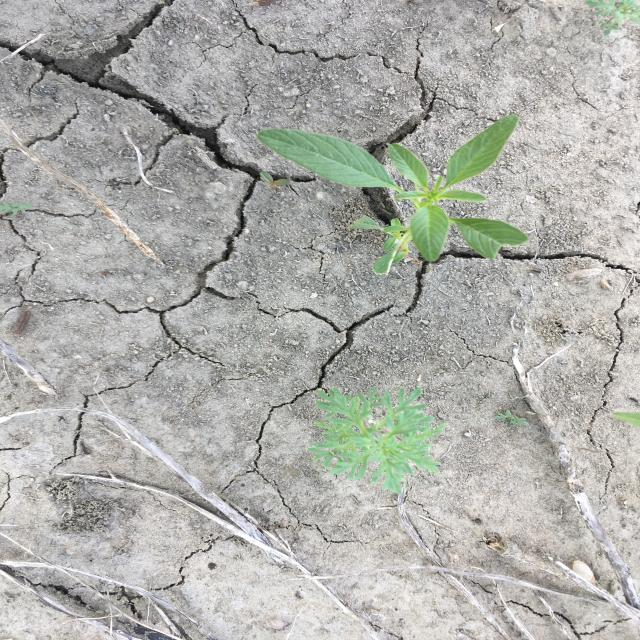Ragweed: (307, 385, 449, 496), (584, 2, 636, 37)
Waterhemp: (254, 114, 532, 277)
